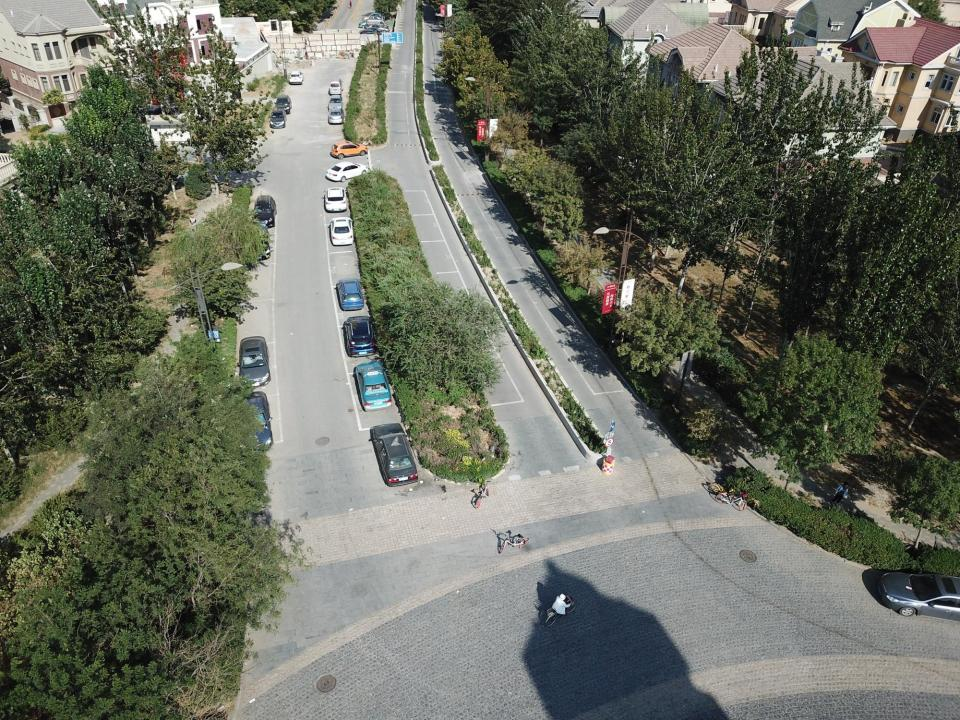car: (878, 572, 960, 622), (372, 423, 419, 487), (234, 391, 274, 450), (356, 362, 391, 412), (237, 336, 271, 387), (344, 316, 376, 356), (326, 161, 368, 182), (337, 278, 364, 310), (246, 225, 270, 261), (252, 196, 276, 228), (330, 140, 368, 160), (330, 216, 354, 245), (323, 187, 347, 211), (268, 109, 286, 128), (274, 95, 292, 114), (328, 108, 344, 123), (365, 24, 390, 33), (288, 71, 304, 84), (328, 96, 343, 108), (359, 20, 381, 28), (363, 12, 384, 20), (360, 29, 382, 35)
truck: (367, 18, 388, 27)
van: (328, 78, 344, 96)
